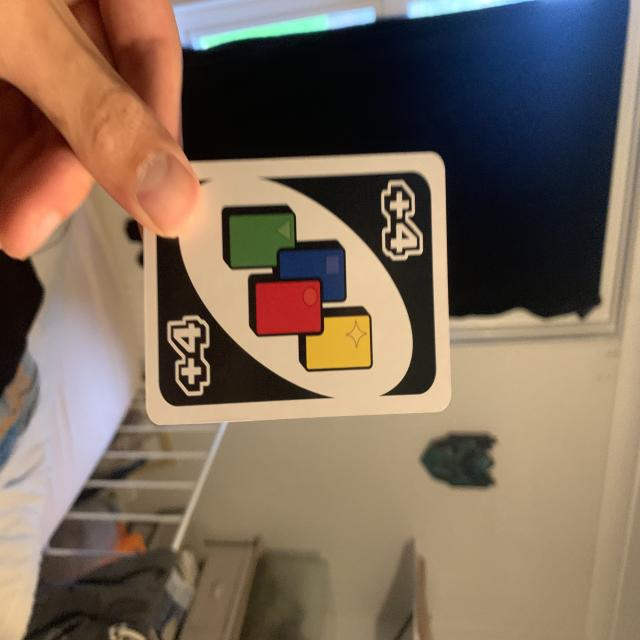lcolor-400: (367, 178, 427, 276)
